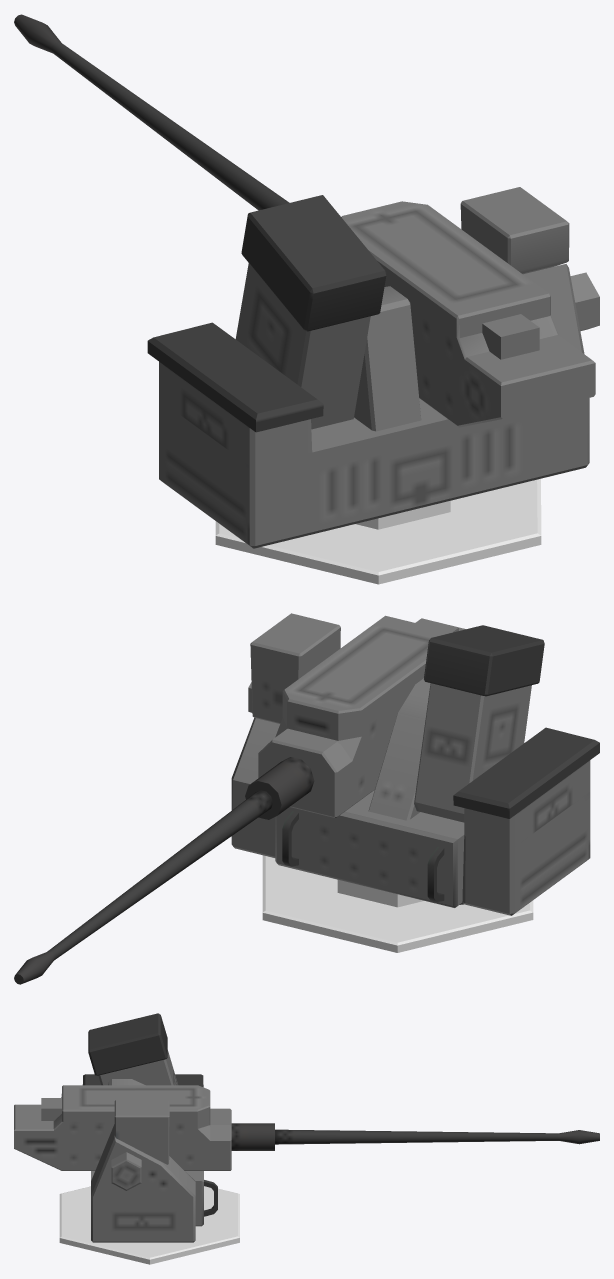
Rendered from 30mm_cannon.fbx.
3 renders of one model, top to bottom at view 1: azimuth 30°, elevation 25°; view 2: azimuth 150°, elevation 25°; view 3: azimuth 270°, elevation 25°, orthographic. The views are drawn at different scales.
Visible parts, largest first — view 1: 30mm_cannon_base, 30mm_cannon, template_base; view 2: 30mm_cannon_base, 30mm_cannon, template_base; view 3: 30mm_cannon_base, 30mm_cannon, template_base.
Boxes of the visible parts, left/top/right/bottom form: 30mm_cannon_base: left=147, top=187, right=599, bottom=548; 30mm_cannon: left=14, top=14, right=595, bottom=427; template_base: left=215, top=478, right=541, bottom=584; 30mm_cannon_base: left=231, top=613, right=599, bottom=915; 30mm_cannon: left=14, top=615, right=465, bottom=984; template_base: left=262, top=855, right=533, bottom=952; 30mm_cannon_base: left=82, top=1013, right=217, bottom=1242; 30mm_cannon: left=14, top=1085, right=599, bottom=1170; template_base: left=59, top=1186, right=239, bottom=1264.
Size of the model in its own units: 103 by 84.31 by 256.
1 material, 1 textured.
